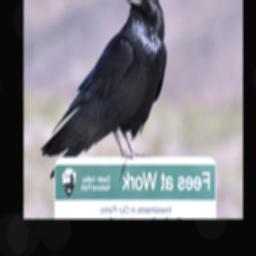Crow: (40, 0, 167, 181)
